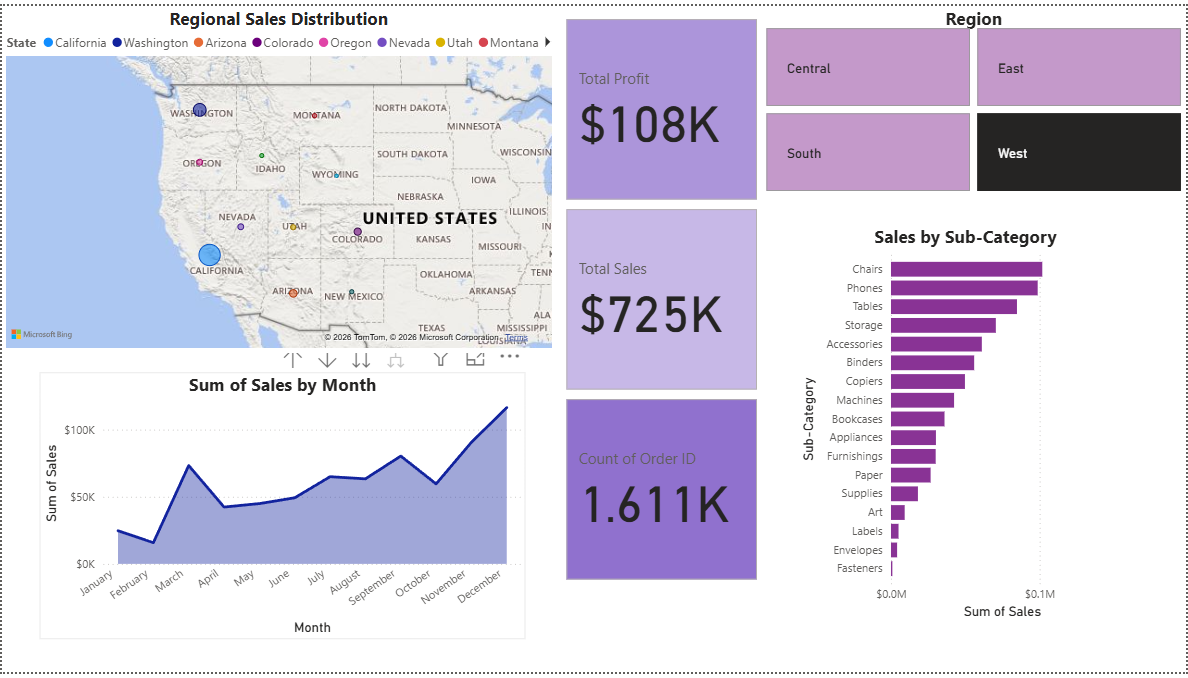

The page's visual inventory and layout, read from the dashboard file:
{"tool":"powerbi","page":{"name":"Page 1","canvas":[1280,720],"ordinal":0},"visuals":[{"type":"cardVisual","fields":{"Data":["Sum(Table 1 (Sample - Superstore Clean).Sales)"]},"box":[605.4,214.9,216.2,205.4],"z":0},{"type":"cardVisual","fields":{"Data":["Sum(Table 1 (Sample - Superstore Clean).Profit)"]},"box":[605.4,9.5,216.2,205.4],"z":1000},{"type":"cardVisual","fields":{"Data":["Count(Table 1 (Sample - Superstore Clean).Order ID)"]},"box":[605.4,420.3,216.2,205.4],"z":2000},{"type":"lineChart","fields":{"Category":["Table 1 (Sample - Superstore Clean).Order Date.Variation.Date Hierarchy.Year","Table 1 (Sample - Superstore Clean).Order Date.Variation.Date Hierarchy.Quarter","Table 1 (Sample - Superstore Clean).Order Date.Variation.Date Hierarchy.Month","Table 1 (Sample - Superstore Clean).Order Date.Variation.Date Hierarchy.Day"],"Y":["Sum(Table 1 (Sample - Superstore Clean).Sales)"]},"box":[40.5,395.9,525.7,289.2],"z":3000},{"type":"map","title":"Regional Sales Distribution","fields":{"Category":["Table 1 (Sample - Superstore Clean).State"],"Size":["Sum(Table 1 (Sample - Superstore Clean).Sales)"],"Series":["Table 1 (Sample - Superstore Clean).State"]},"box":[0,0,598.6,374.3],"z":4000},{"type":"advancedSlicerVisual","fields":{"Values":["Table 1 (Sample - Superstore Clean).Region"]},"box":[821.6,0,458.1,205.4],"z":5000},{"type":"barChart","title":"Sales by Sub-Category","fields":{"Category":["Table 1 (Sample - Superstore Clean).Sub-Category"],"Y":["Sum(Table 1 (Sample - Superstore Clean).Sales)"]},"box":[859.5,236.5,364.9,431.1],"z":5001}]}

Visuals, with their boxes in screenshot pixels (x1, y1, x2, y2), scaled from the page's 1280x720 canvas onto the 1188x678 screenshot:
cardVisual - Sum(Table 1 (Sample - Superstore Clean).Sales): pyautogui.locateOnScreen(562, 202, 763, 396)
cardVisual - Sum(Table 1 (Sample - Superstore Clean).Profit): pyautogui.locateOnScreen(562, 9, 763, 202)
cardVisual - Count(Table 1 (Sample - Superstore Clean).Order ID): pyautogui.locateOnScreen(562, 396, 763, 589)
lineChart - Table 1 (Sample - Superstore Clean).Order Date.Variation.Date Hierarchy.Year x Table 1 (Sample - Superstore Clean).Order Date.Variation.Date Hierarchy.Quarter: pyautogui.locateOnScreen(38, 373, 526, 645)
"Regional Sales Distribution" map: pyautogui.locateOnScreen(0, 0, 556, 352)
advancedSlicerVisual - Table 1 (Sample - Superstore Clean).Region: pyautogui.locateOnScreen(763, 0, 1187, 193)
"Sales by Sub-Category" barChart: pyautogui.locateOnScreen(798, 223, 1136, 629)
